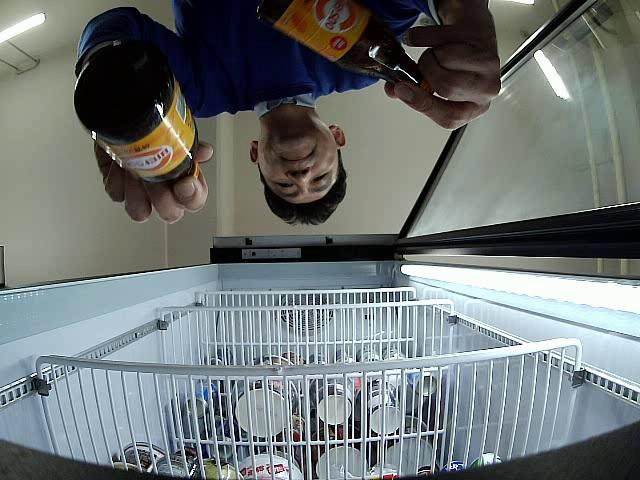00_hand: (394, 8, 503, 127), (92, 136, 213, 223)
17_vita500: (74, 46, 199, 185), (258, 2, 433, 94)
